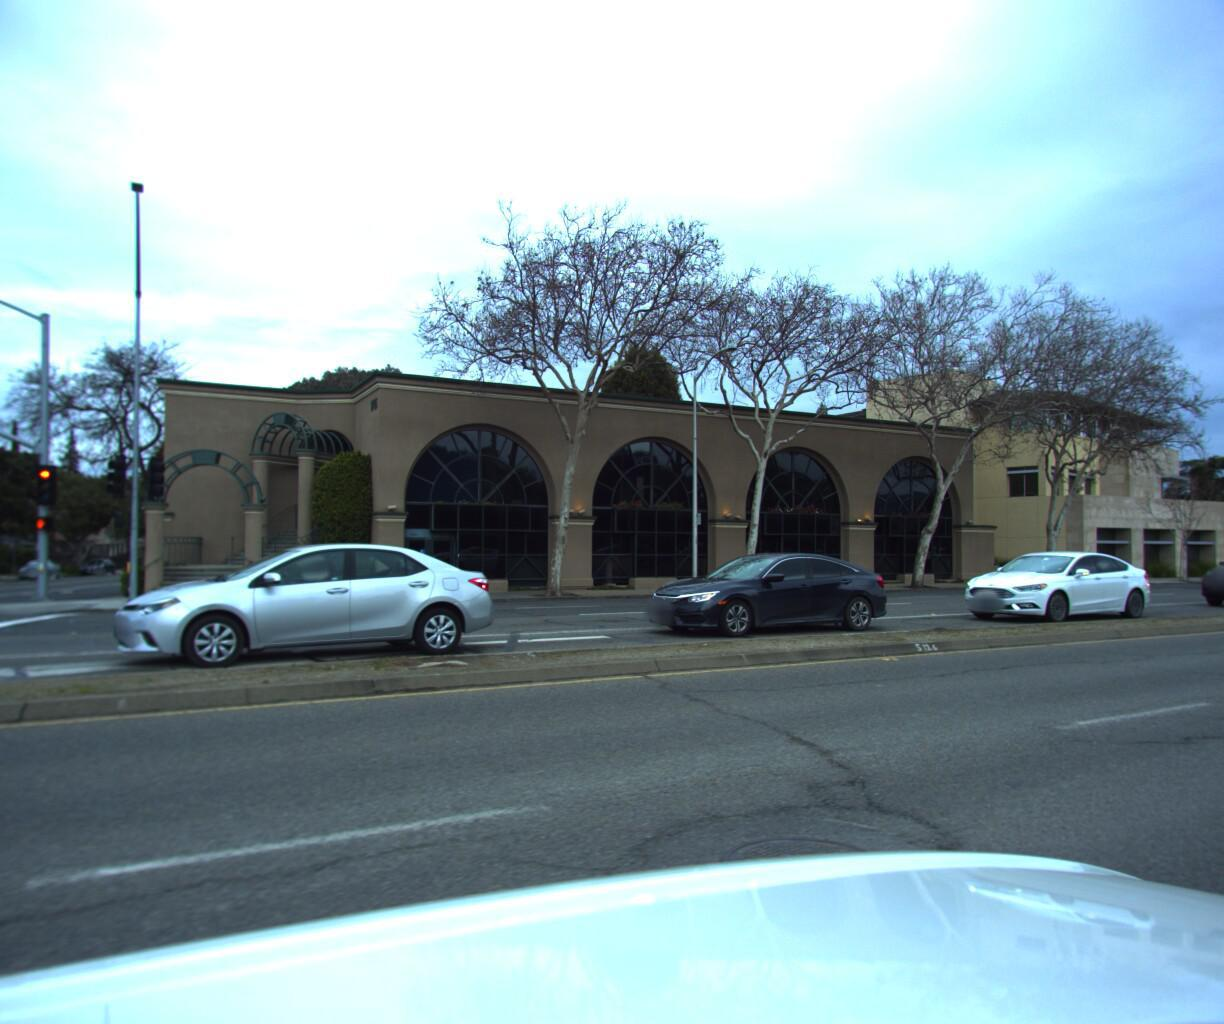car: (100, 539, 514, 678), (629, 546, 902, 640), (945, 543, 1162, 622), (1189, 538, 1224, 605), (17, 558, 68, 581), (81, 555, 119, 574)
